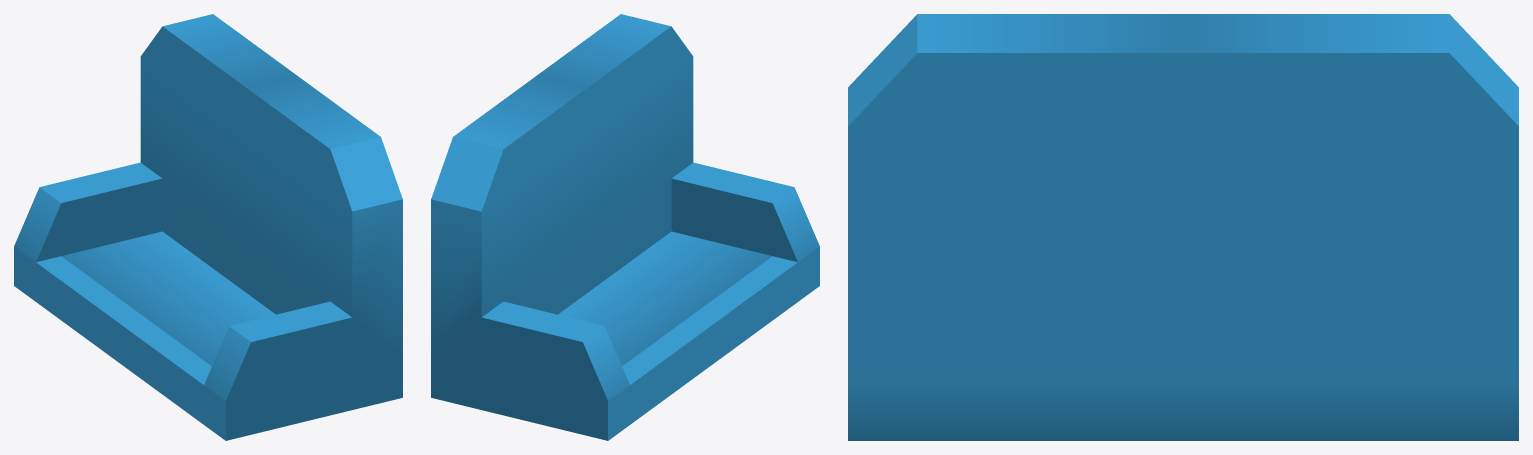
3 views of the same model, side by side, from view 1: azimuth 30°, elevation 25°; view 2: azimuth 150°, elevation 25°; view 3: azimuth 270°, elevation 25° (orthographic). The views are drawn at different scales.
Bounding box in the file's own units: 0.875 × 1.16 × 1.81.
Materials: 1 (1 with a texture image).
